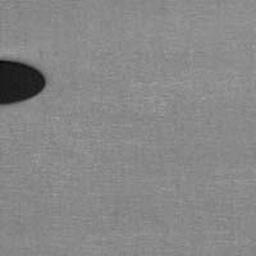Punching: (0, 59, 46, 105)
